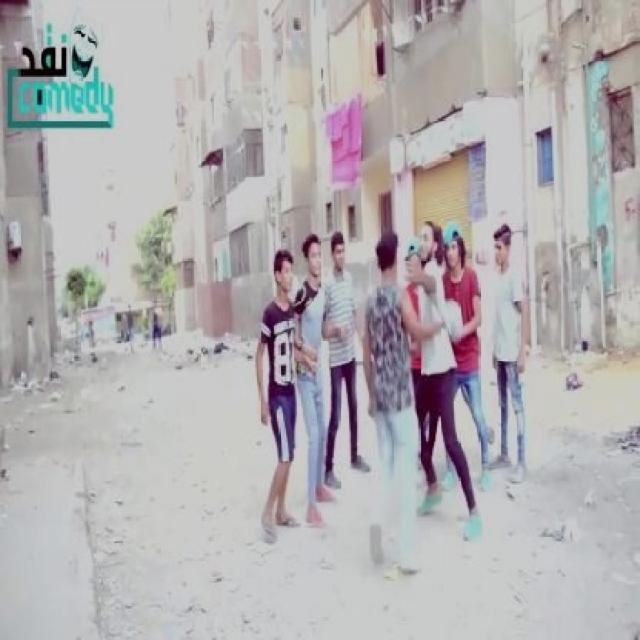fight: (364, 219, 482, 548)
non-fight: (311, 225, 375, 484), (249, 250, 300, 543)
